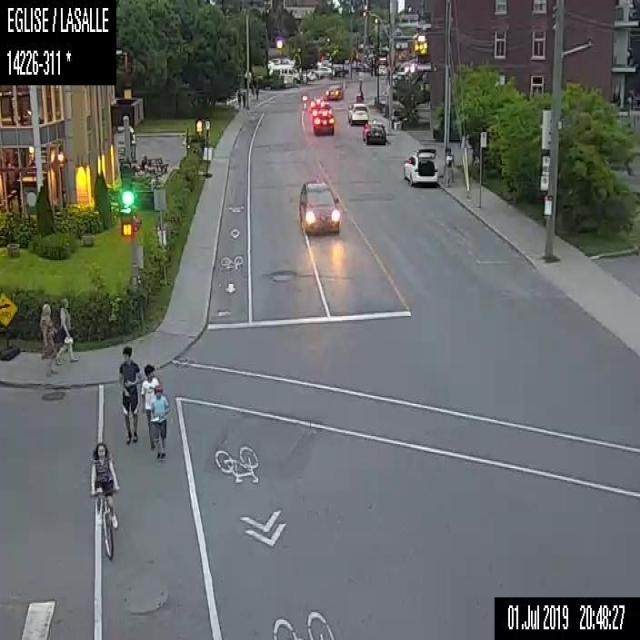cyclist: (88, 441, 118, 559)
pedestrian: (116, 345, 141, 447), (138, 361, 158, 448), (150, 382, 170, 461), (56, 296, 76, 361), (38, 303, 56, 374), (442, 145, 453, 192), (241, 90, 245, 108), (250, 82, 254, 100), (254, 83, 258, 101), (236, 90, 240, 106)
vehicle: (297, 178, 341, 234), (400, 146, 437, 186), (361, 118, 385, 146), (269, 64, 300, 85), (346, 98, 368, 124), (311, 113, 334, 136), (322, 82, 342, 99), (314, 64, 333, 76), (310, 106, 332, 116)
